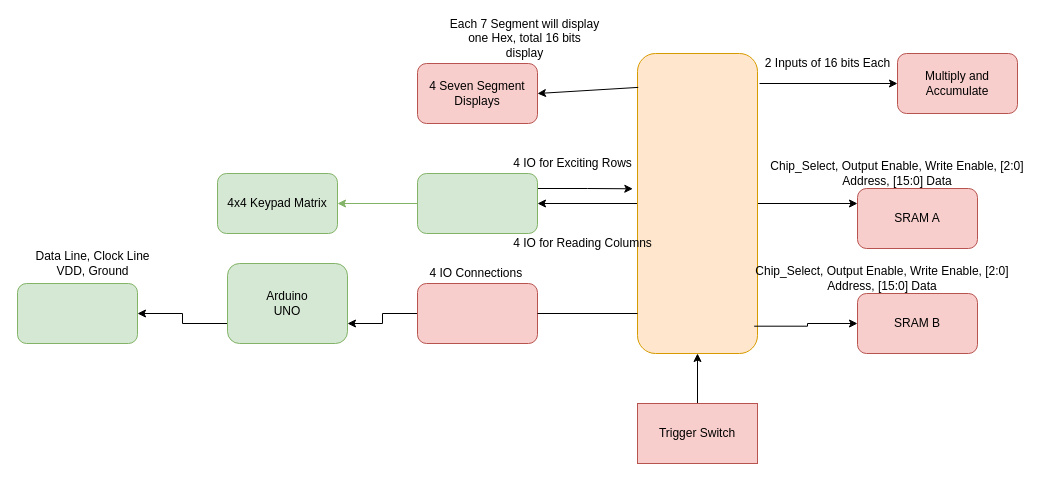
Image size: 1050x481. Some labels were removed from this diagram. Each missing label, with the centre of its shape:
Central Processing Unit: (x=697, y=203)
Communication with Arduino: (x=477, y=313)
Keyboard Scanning Module: (x=477, y=203)
LCD Display I2C Configuratio: (x=77, y=313)
